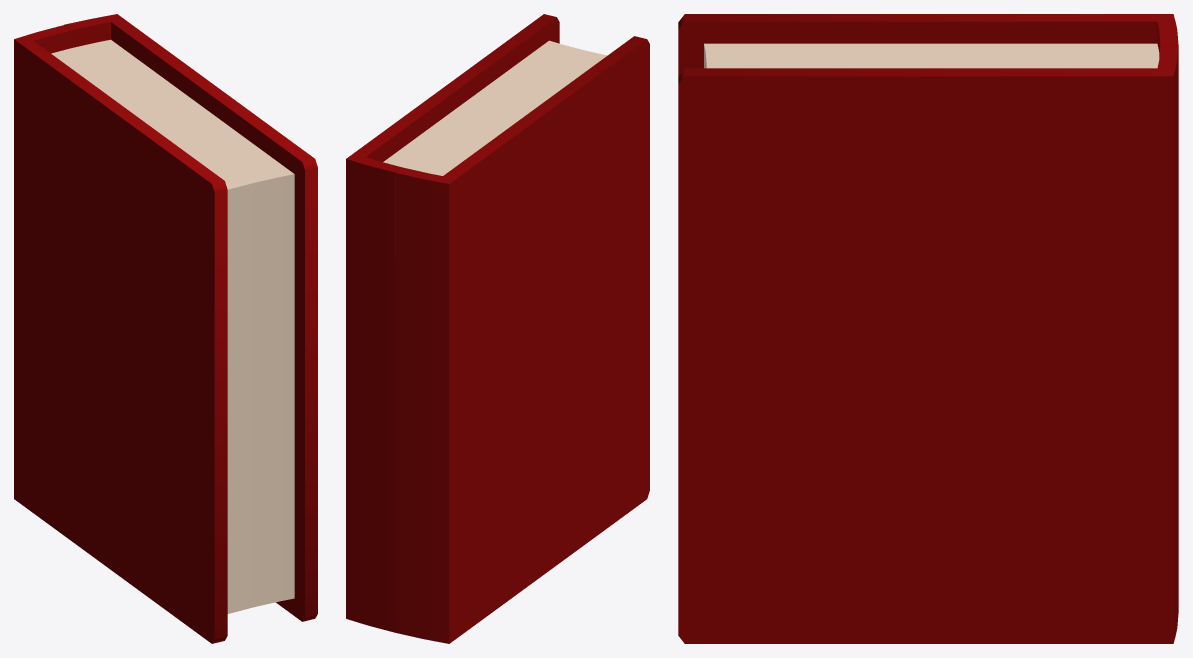
Rendered from Book.fbx.
The picture shows the model from 3 angles, left to right: view 1: azimuth 30°, elevation 25°; view 2: azimuth 150°, elevation 25°; view 3: azimuth 270°, elevation 25°; orthographic projection. The views are drawn at different scales.
Parts seen in each view (by area): view 1: BookHalf1, BookHalf2; view 2: BookHalf1, BookHalf2; view 3: BookHalf2, BookHalf1.
Boxes of the visible parts, <box> form: BookHalf1: <box>14,25,254,643</box>; BookHalf2: <box>64,14,317,621</box>; BookHalf1: <box>395,36,649,643</box>; BookHalf2: <box>346,14,586,632</box>; BookHalf2: <box>678,45,1178,643</box>; BookHalf1: <box>678,14,1178,76</box>.
Size of the model in its own units: 3.13 by 13.31 by 10.62.
